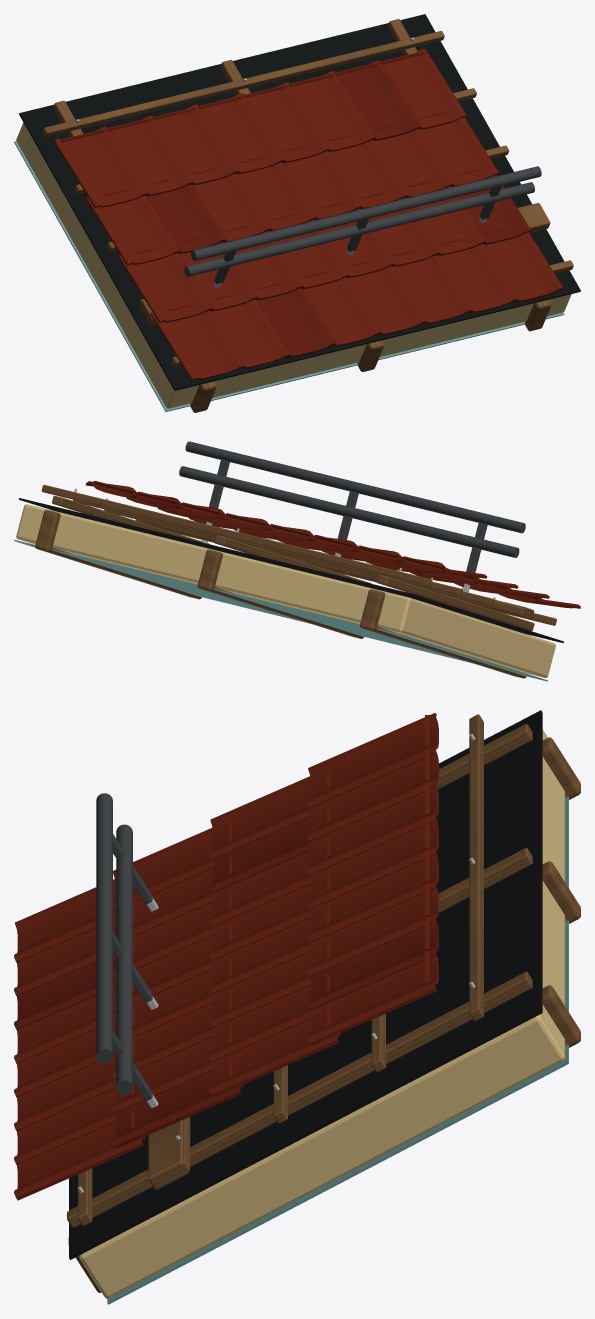
Rendered from modell.glb.
3 views of the same model, one above another, from view 1: azimuth 30°, elevation 25°; view 2: azimuth 150°, elevation 25°; view 3: azimuth 270°, elevation 25° (orthographic). The views are drawn at different scales.
Parts seen in each view (by area): view 1: a02-deckziegel_deckung, a02-zusatzebene_zusatzebene, a02-deckziegel_deckung.001, a02-daemmung_daemmung, a02-fangsystem_, a02-lattung_lattung, a02-luftdichtheit_luftdichtheit, a02-sparren_tragwerk, a02-halter_, a02-befestigungsuntergrund_lattung; view 2: a02-daemmung_daemmung, a02-lattung_lattung, a02-fangsystem_, a02-deckziegel_deckung, a02-sparren_tragwerk, a02-luftdichtheit_luftdichtheit, a02-zusatzebene_zusatzebene, a02-halter_, a02-deckziegel_deckung.001, a02-befestigungsuntergrund_lattung; view 3: a02-deckziegel_deckung, a02-zusatzebene_zusatzebene, a02-daemmung_daemmung, a02-lattung_lattung, a02-deckziegel_deckung.001, a02-fangsystem_, a02-luftdichtheit_luftdichtheit, a02-sparren_tragwerk, a02-befestigungsuntergrund_lattung, a02-halter_.
Part boxes in pixels (bbox=[...]): a02-deckziegel_deckung: bbox=[53, 48, 563, 380]; a02-zusatzebene_zusatzebene: bbox=[19, 14, 580, 390]; a02-deckziegel_deckung.001: bbox=[146, 60, 531, 358]; a02-daemmung_daemmung: bbox=[16, 122, 571, 408]; a02-fangsystem_: bbox=[184, 166, 541, 276]; a02-lattung_lattung: bbox=[42, 19, 573, 366]; a02-luftdichtheit_luftdichtheit: bbox=[14, 141, 564, 411]; a02-sparren_tragwerk: bbox=[190, 299, 551, 412]; a02-halter_: bbox=[214, 186, 501, 284]; a02-befestigungsuntergrund_lattung: bbox=[140, 203, 550, 325]; a02-daemmung_daemmung: bbox=[16, 504, 555, 677]; a02-lattung_lattung: bbox=[41, 484, 556, 630]; a02-fangsystem_: bbox=[179, 441, 525, 557]; a02-deckziegel_deckung: bbox=[85, 480, 580, 608]; a02-sparren_tragwerk: bbox=[35, 510, 526, 678]; a02-luftdichtheit_luftdichtheit: bbox=[14, 540, 547, 681]; a02-zusatzebene_zusatzebene: bbox=[19, 498, 563, 643]; a02-halter_: bbox=[209, 459, 487, 572]; a02-deckziegel_deckung.001: bbox=[130, 492, 453, 582]; a02-befestigungsuntergrund_lattung: bbox=[149, 524, 534, 619]; a02-deckziegel_deckung: bbox=[14, 713, 438, 1200]; a02-zusatzebene_zusatzebene: bbox=[69, 710, 542, 1259]; a02-daemmung_daemmung: bbox=[79, 729, 565, 1298]; a02-lattung_lattung: bbox=[67, 714, 532, 1227]; a02-deckziegel_deckung.001: bbox=[14, 817, 438, 1148]; a02-fangsystem_: bbox=[96, 793, 132, 1095]; a02-luftdichtheit_luftdichtheit: bbox=[107, 796, 568, 1304]; a02-sparren_tragwerk: bbox=[68, 737, 580, 1292]; a02-befestigungsuntergrund_lattung: bbox=[148, 1120, 188, 1190]; a02-halter_: bbox=[113, 834, 152, 1100].
Size of the model in its own units: 2.14 by 1.04 by 1.71.
8 materials, 3 textured.
